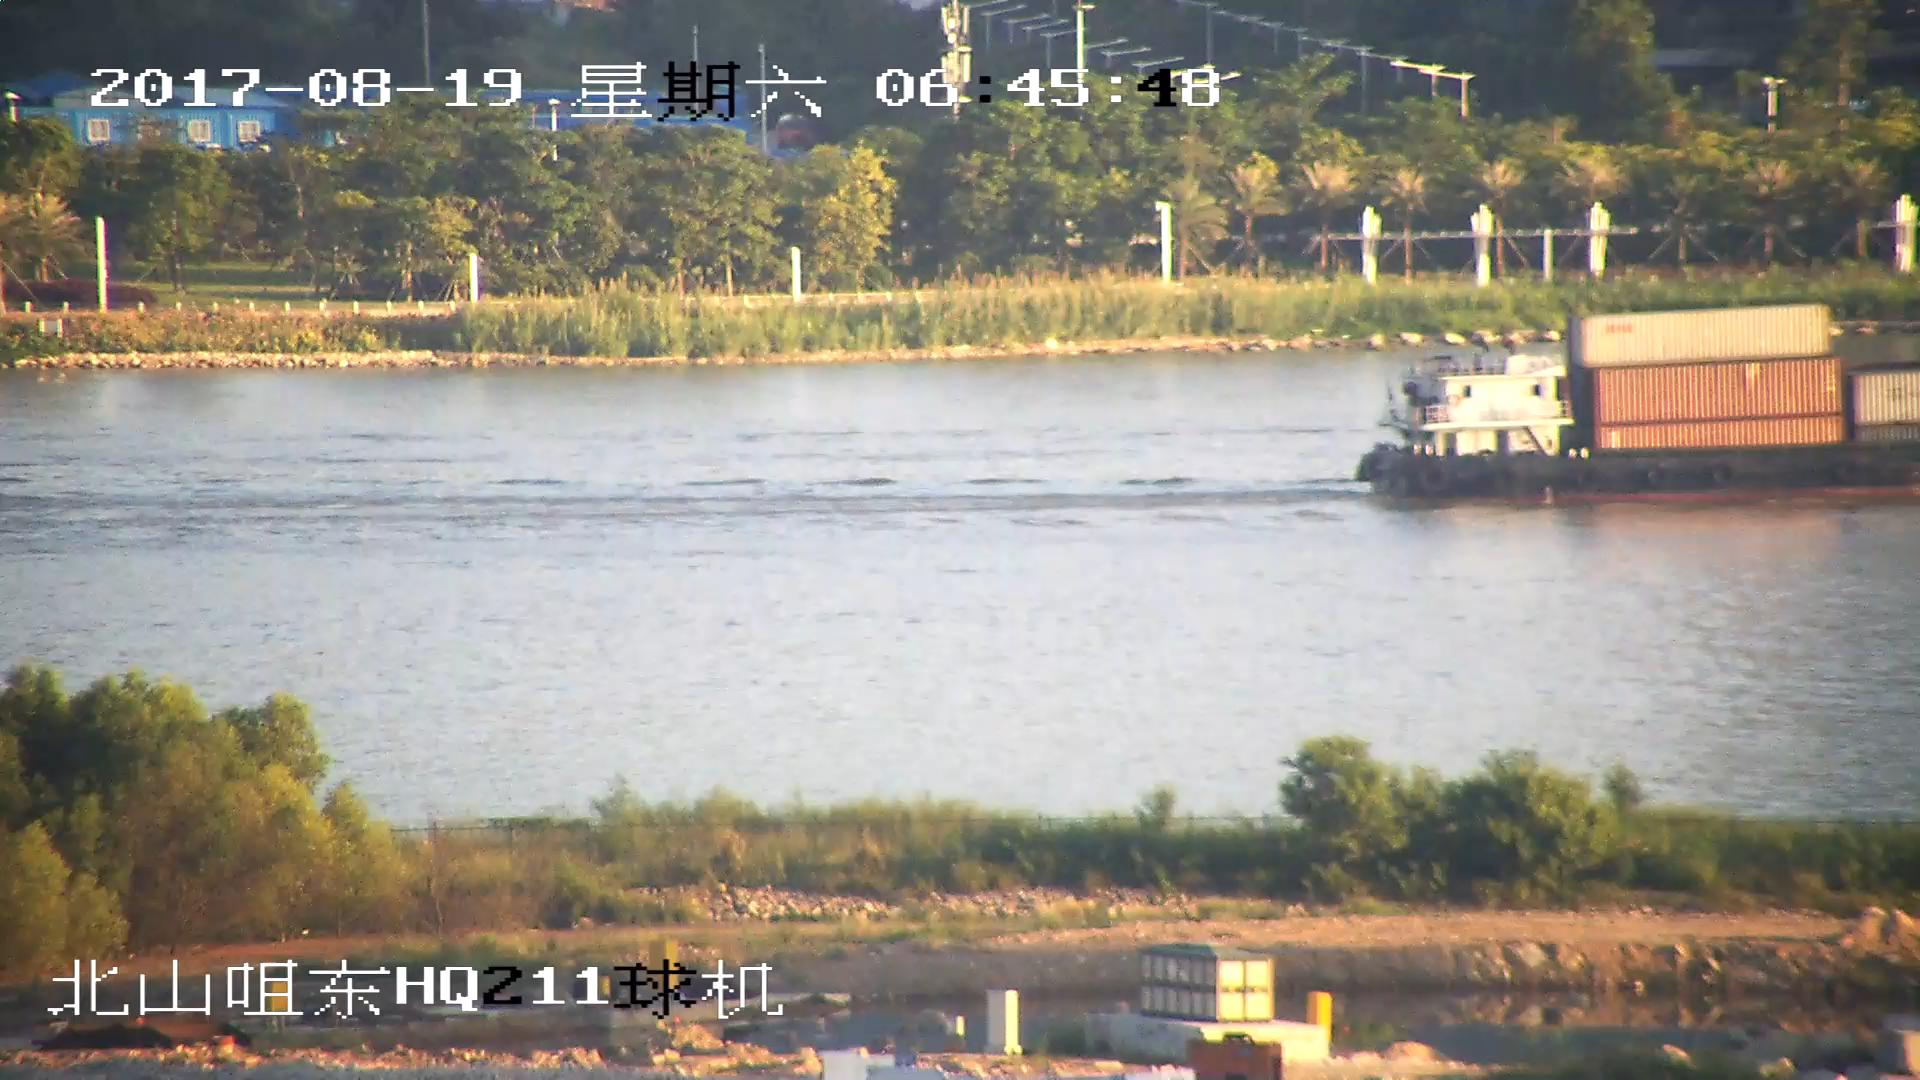container ship: (1352, 303, 1920, 502)
